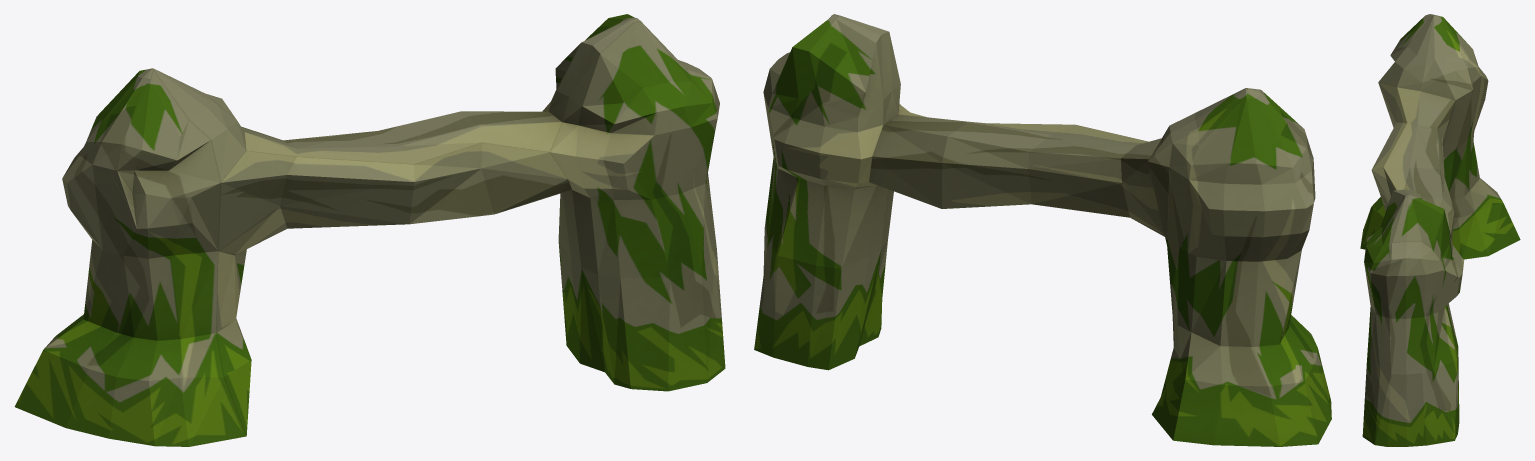
The model's file is ston pillar.FBX.
3 renders of one model, left to right at view 1: azimuth 30°, elevation 25°; view 2: azimuth 150°, elevation 25°; view 3: azimuth 270°, elevation 25°, orthographic. The views are drawn at different scales.
Visible parts, largest first — view 1: Cactus; view 2: Cactus; view 3: Cactus.
Part boxes in pixels (x1=…): Cactus: x1=14, y1=14, x2=725, y2=446; Cactus: x1=754, y1=14, x2=1331, y2=446; Cactus: x1=1360, y1=14, x2=1520, y2=446.
Size of the model in its own units: 33.18 by 19.64 by 10.93.
